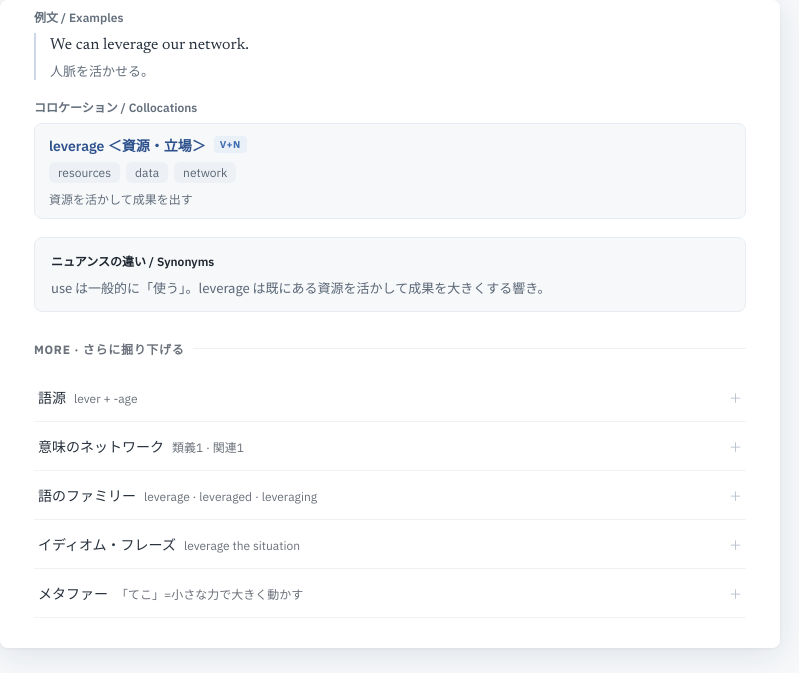
<WordDetailCard/> › shows the etymology decomposition and bridge chain (C-2)
(page scrolled)
Step 1. Click the text "語源" → (88, 397), box [38,387,138,407]
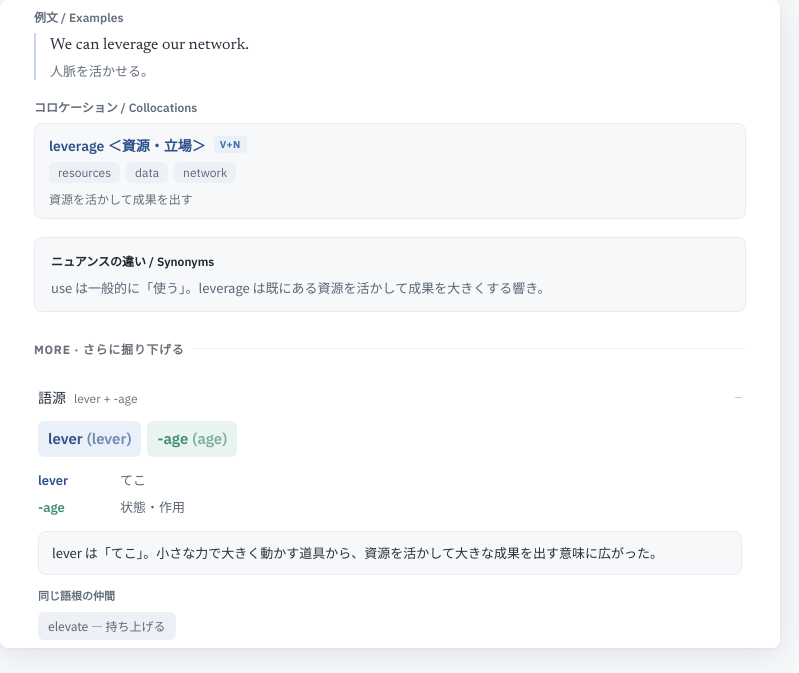
Now the text "lever は「てこ」。小さな力で大きく動かす道具から、資源を活かして大きな成果を出す意味に広がった。" is shown, box [38,531,742,575]
